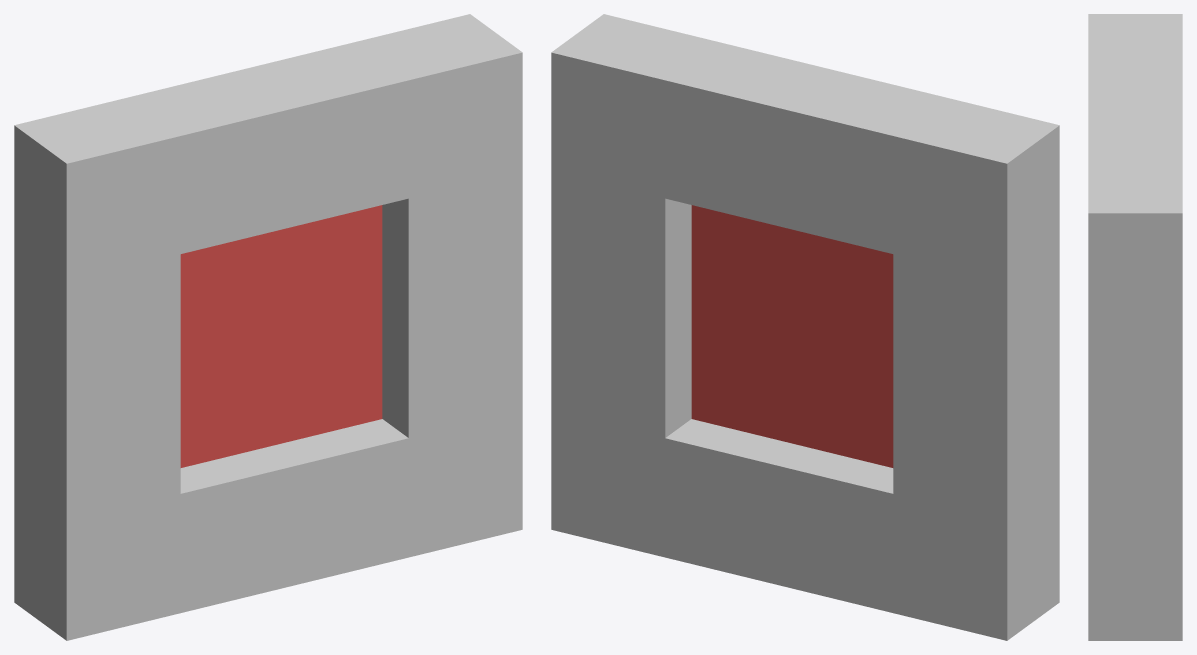
File: sm_DummyGeo_Window.fbx
3 views of the same model, side by side, from view 1: azimuth 30°, elevation 25°; view 2: azimuth 150°, elevation 25°; view 3: azimuth 270°, elevation 25° (orthographic). The views are drawn at different scales.
Visible parts, largest first — view 1: Cube.001, Plane; view 2: Cube.001, Plane; view 3: Cube.001.
Boxes of the visible parts, x1,y1,x2,y2 form: Cube.001: (14, 14, 522, 640); Plane: (180, 205, 382, 467); Cube.001: (551, 14, 1059, 640); Plane: (691, 205, 893, 467); Cube.001: (1088, 14, 1182, 640).
Bounding box in the file's own units: 500 × 500 × 100.
